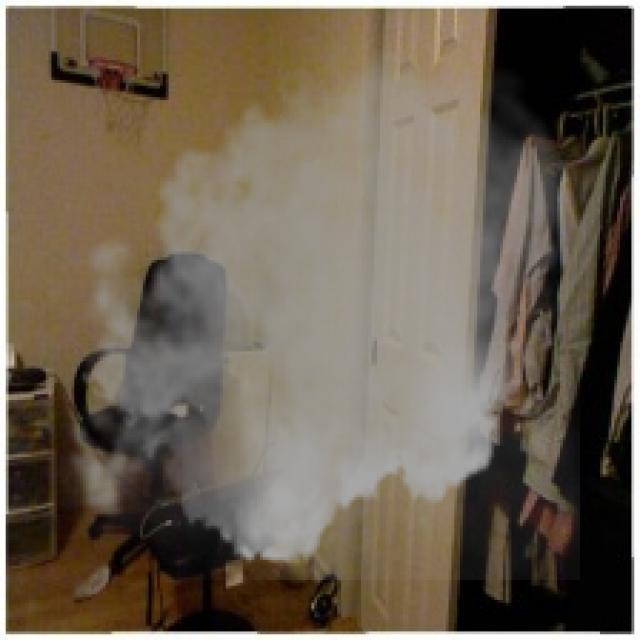Smoke: (51, 26, 580, 580)
